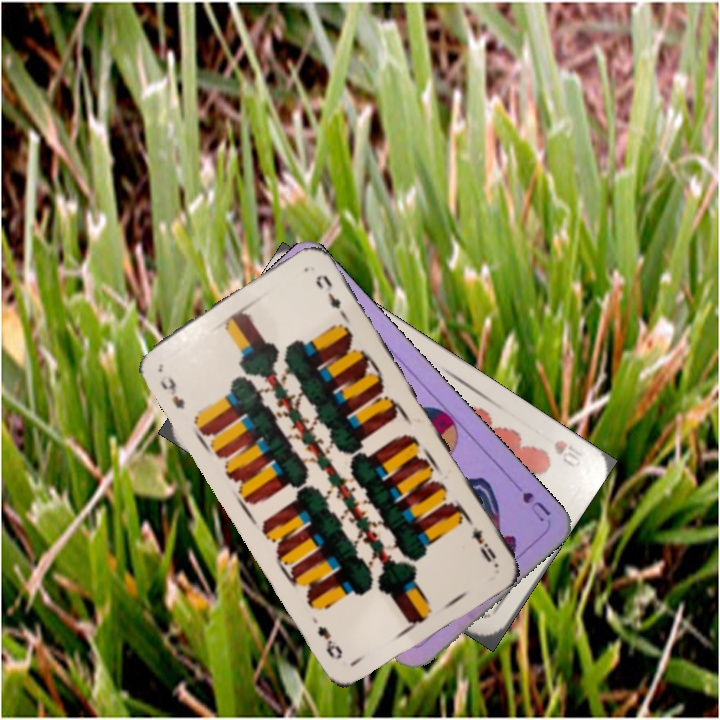E9: (467, 522, 499, 565), (155, 373, 188, 412)
H10: (549, 436, 586, 471)
SU: (506, 475, 553, 525)
